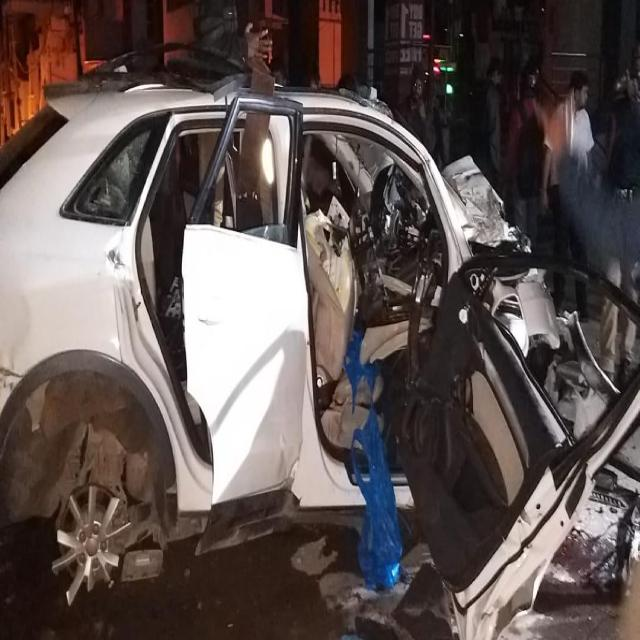accident: (0, 47, 640, 638)
